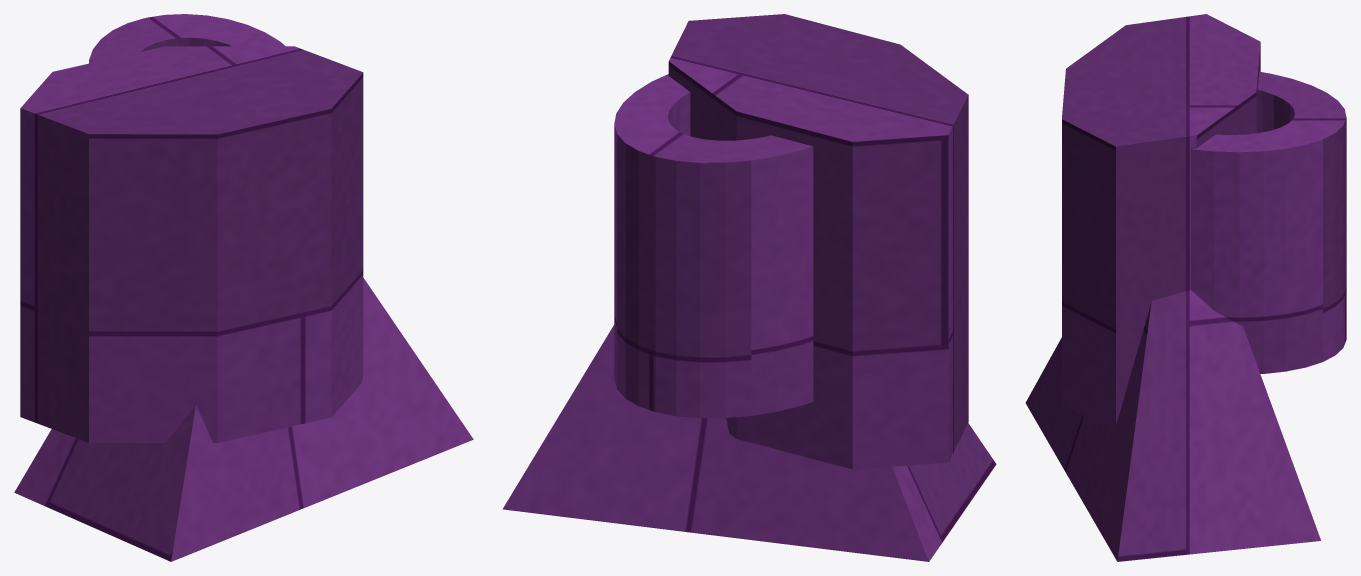
The picture shows the model from 3 angles, left to right: view 1: azimuth 30°, elevation 25°; view 2: azimuth 150°, elevation 25°; view 3: azimuth 270°, elevation 25°; orthographic projection. The views are drawn at different scales.
Visible parts, largest first — view 1: geometry_0; view 2: geometry_0; view 3: geometry_0.
Boxes of the visible parts, <box> form: geometry_0: <box>14,14,473,561</box>; geometry_0: <box>503,14,996,561</box>; geometry_0: <box>1025,14,1346,561</box>.
Size of the model in its own units: 1.68 by 1.57 by 1.25.
1 material, 1 textured.
